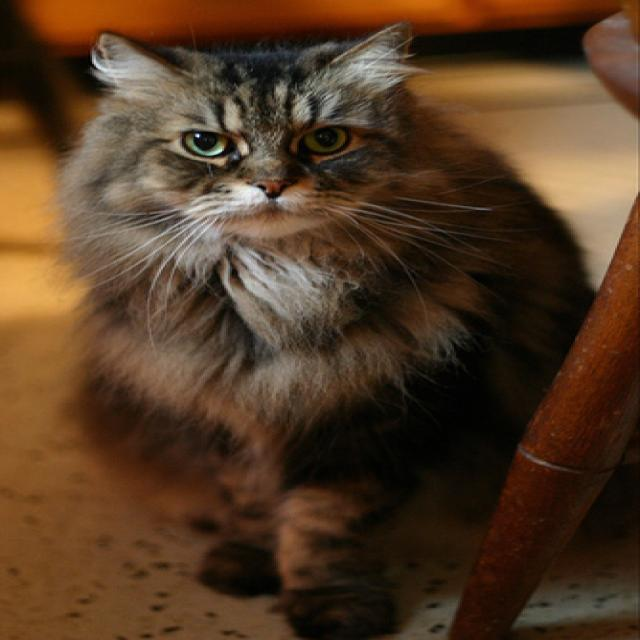left eye: (52, 21, 598, 638), (176, 126, 238, 158), (295, 123, 355, 156)
